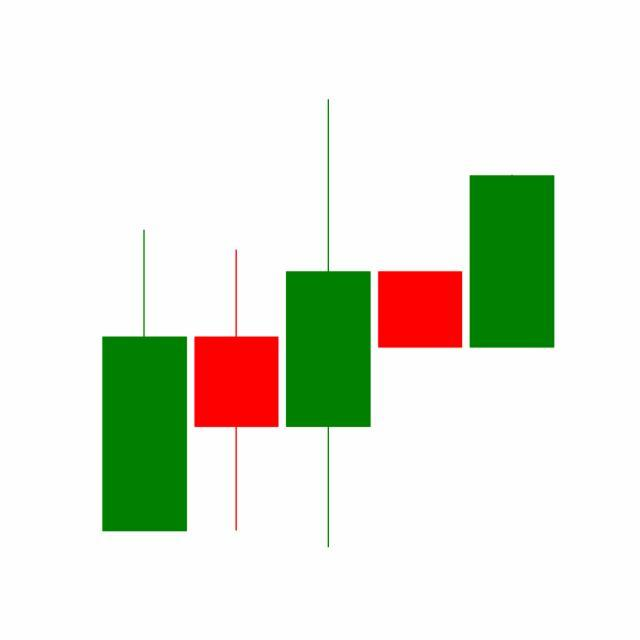Marubozu: (466, 174, 559, 350)
